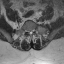CCS_stenosis: (29, 28, 31, 36)
LFS_normal: (33, 26, 35, 34)
LLS_normal: (31, 28, 33, 35)
RFS_stenosis: (26, 27, 27, 34)
RLS_normal: (27, 28, 29, 35)
